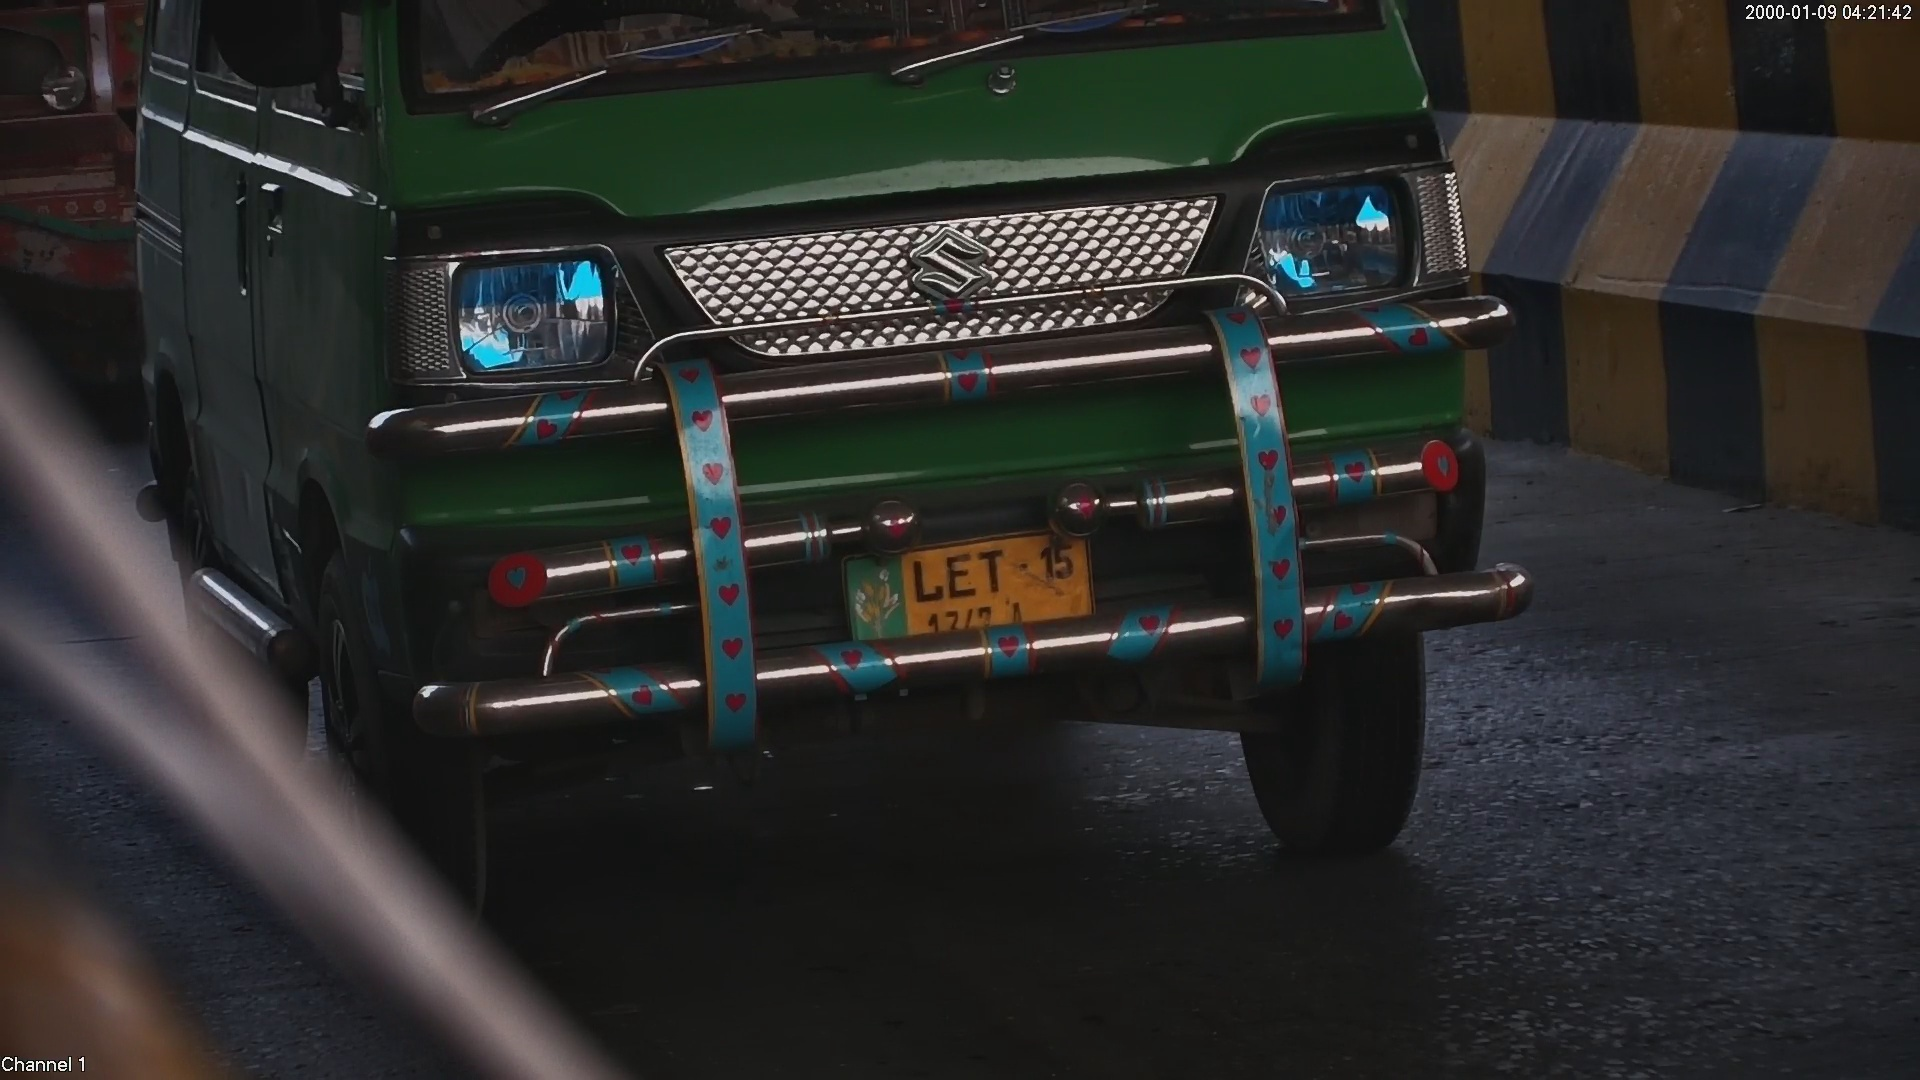Number_Plate: (821, 512, 1126, 666)
Undefined: (360, 216, 643, 399), (1226, 155, 1465, 314), (891, 225, 1013, 340)
